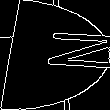N_W: (4, 32, 106, 78)
